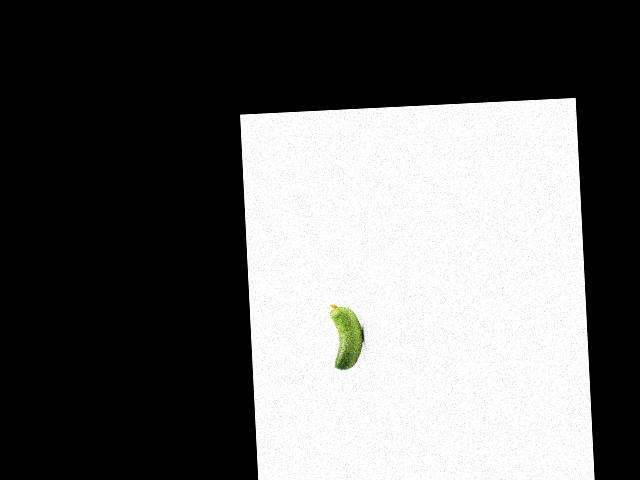cucumber: (329, 302, 365, 371)
